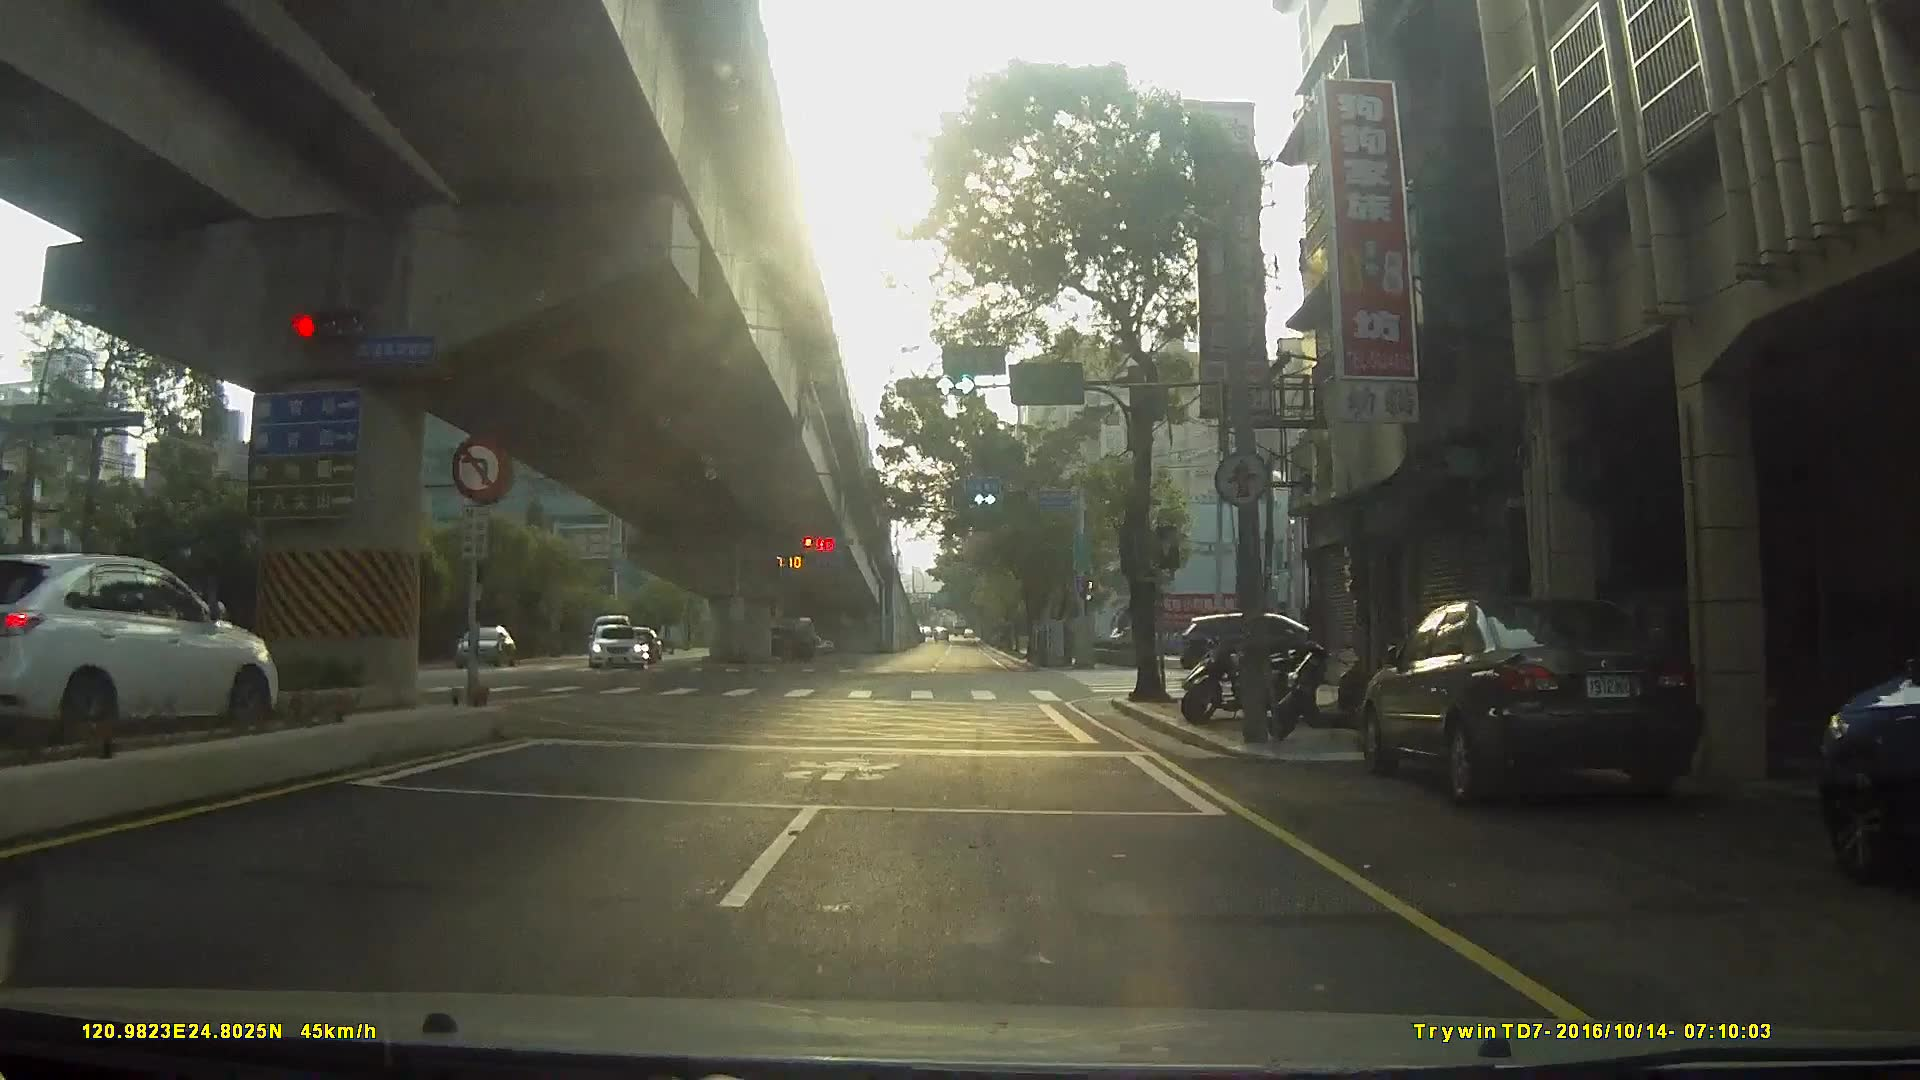vehicle: (1344, 587, 1717, 816), (1, 549, 313, 745), (1804, 632, 1920, 895), (446, 622, 512, 669), (584, 621, 642, 669), (750, 620, 818, 659)
